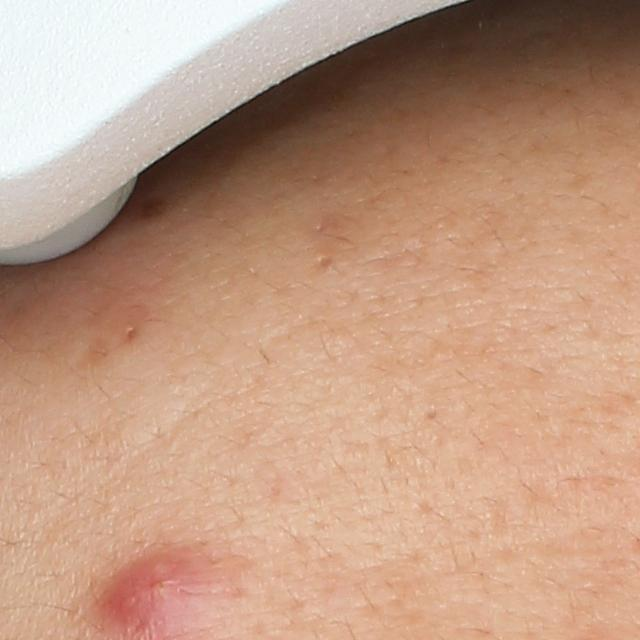papule: (93, 541, 221, 637)
